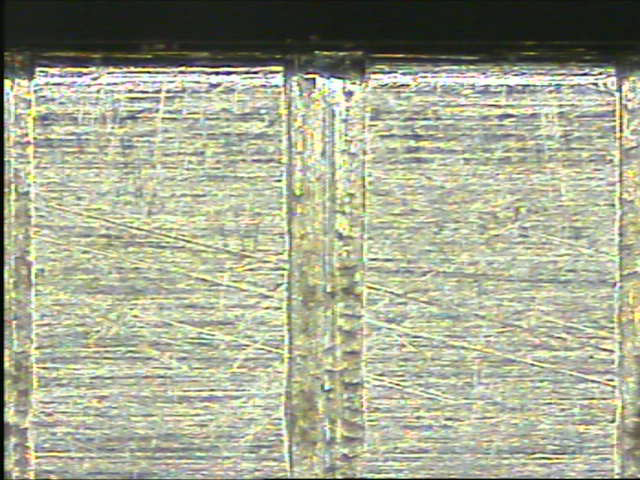line: (281, 49, 371, 475)
